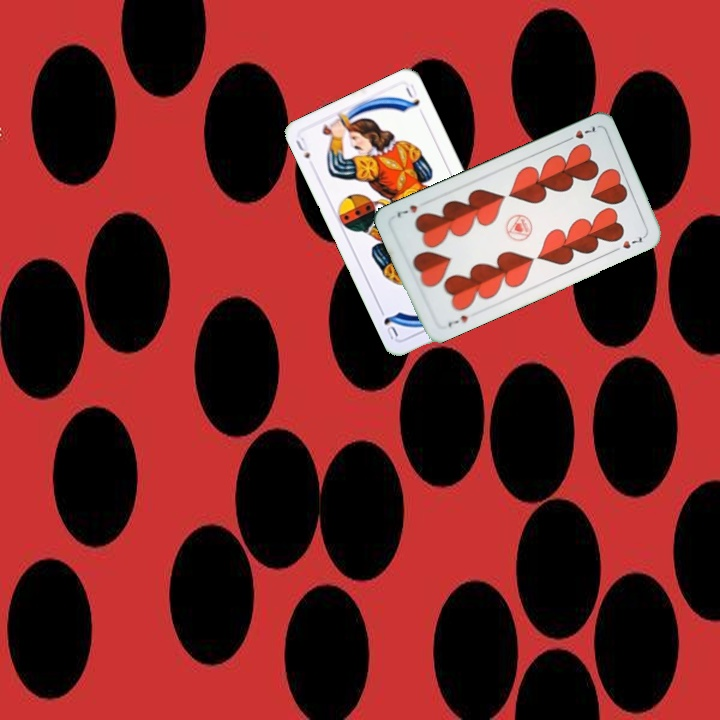H7: (561, 122, 599, 145), (444, 311, 470, 330)
SU: (291, 133, 313, 161)
